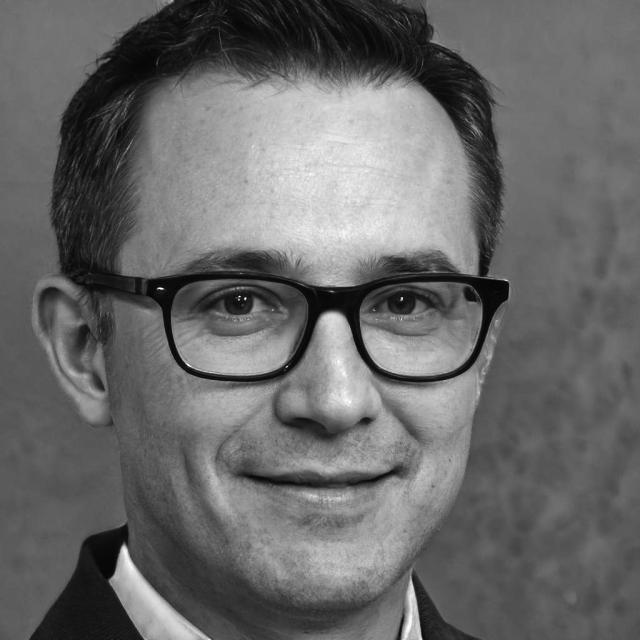lens: (171, 279, 308, 376), (359, 282, 484, 381)
